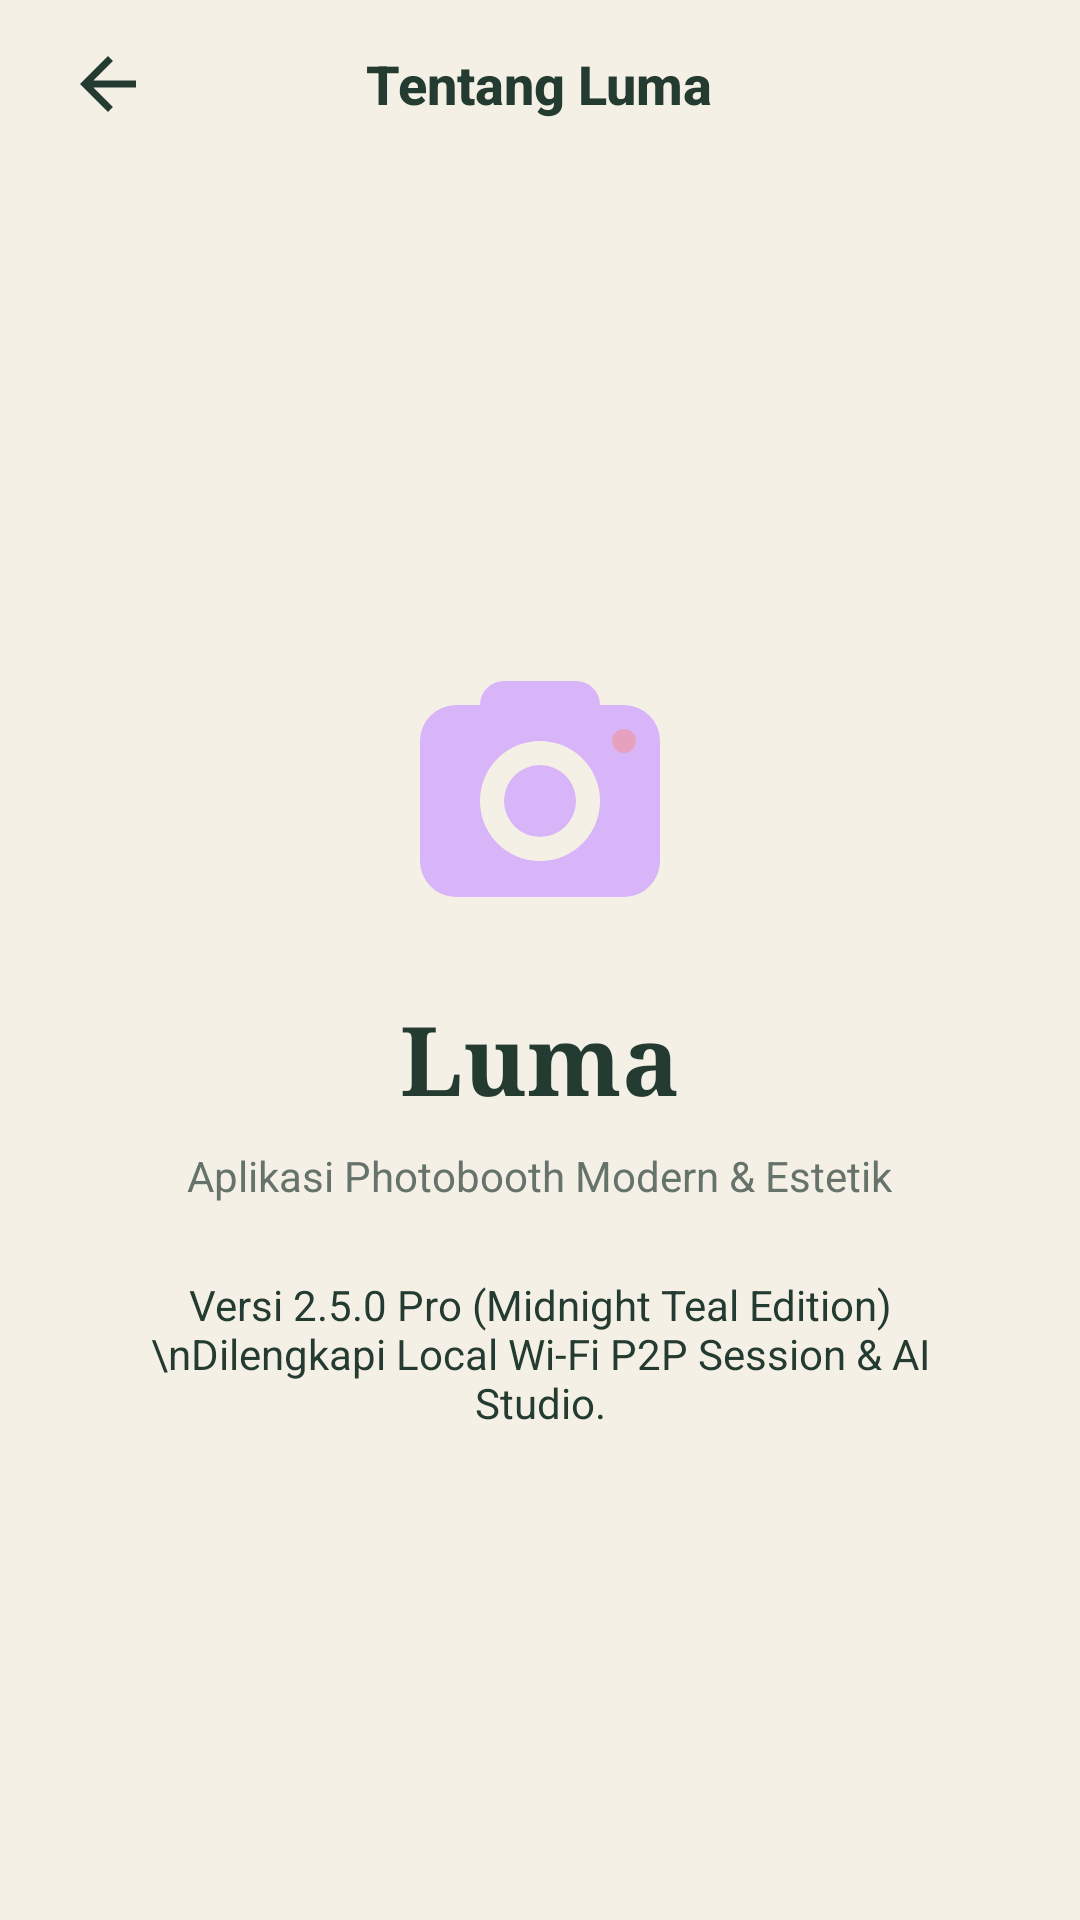

Screen size 1080*1920. Icon name, then its box in pixels as (x1=x1, y1=y1, x2=x2, y2=y2):
Kembali: (x1=80, y1=56, x2=136, y2=112)
